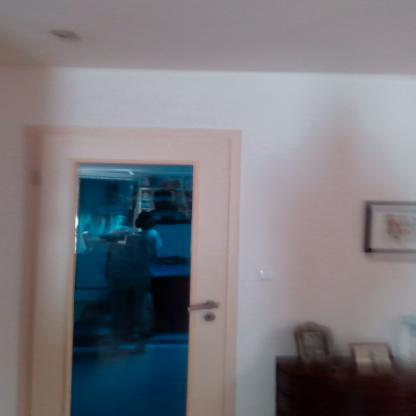door: (37, 136, 228, 416)
hinged: (32, 166, 43, 184)
lever: (182, 300, 222, 312)
